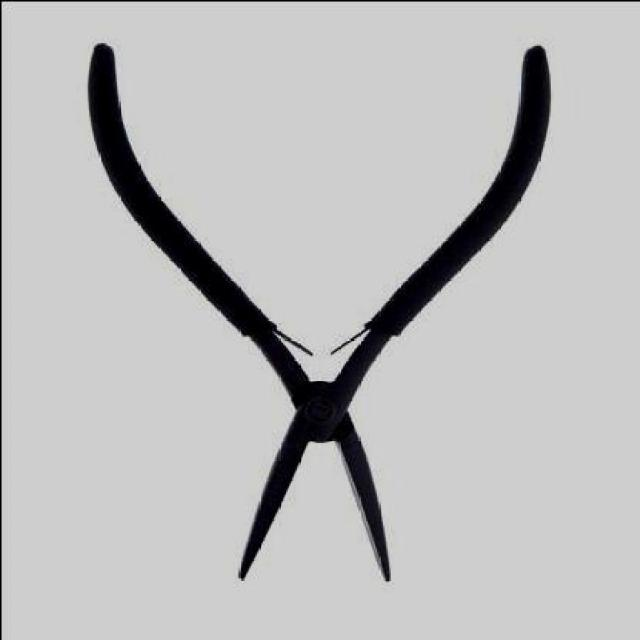pliers: (79, 40, 550, 580)
